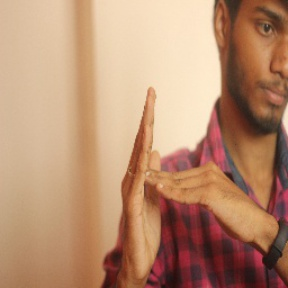Z: (110, 84, 264, 279)
